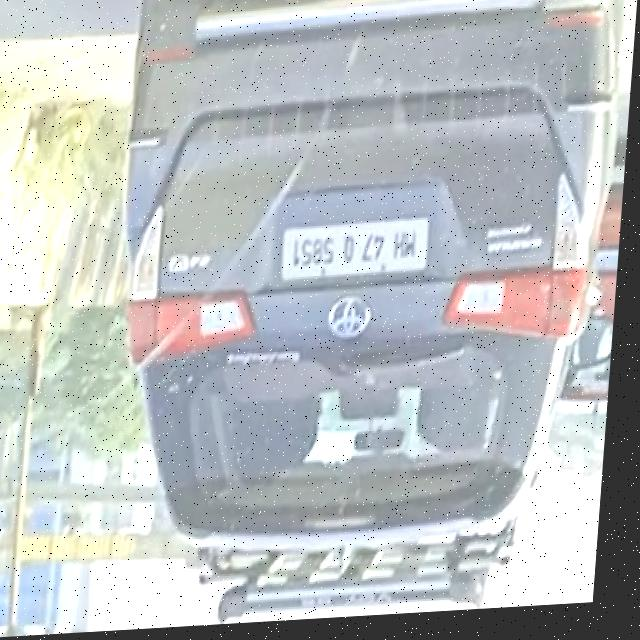plate: (283, 223, 436, 291)
